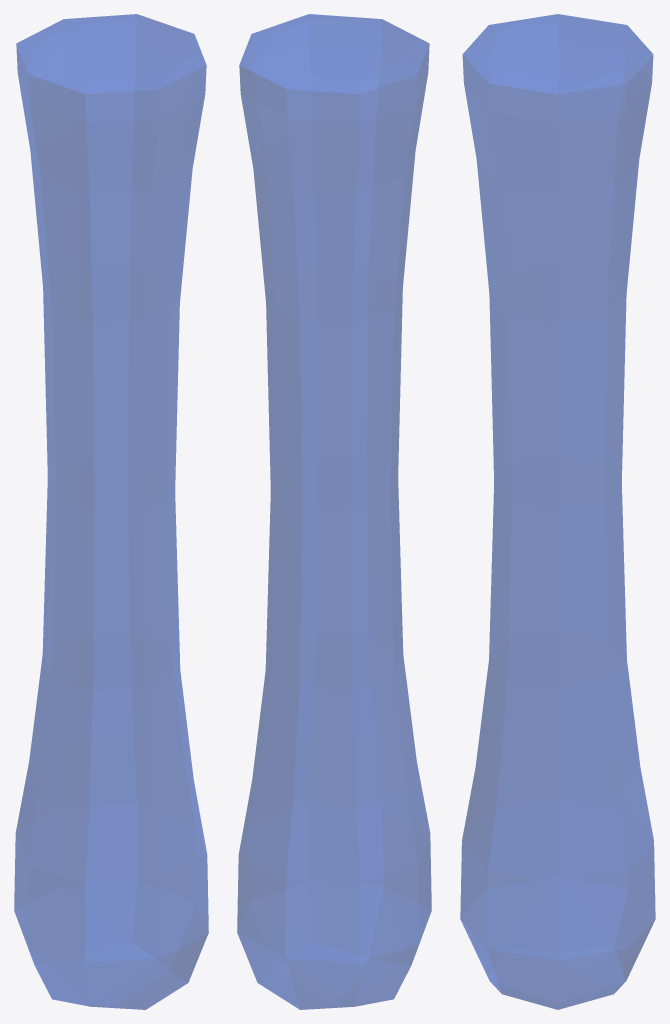
The model's file is Flopa1.obj.
3 renders of one model, left to right at view 1: azimuth 30°, elevation 25°; view 2: azimuth 150°, elevation 25°; view 3: azimuth 270°, elevation 25°, orthographic.
Visible parts, largest first — view 1: Cube.002_Cube.003; view 2: Cube.002_Cube.003; view 3: Cube.002_Cube.003.
Boxes of the visible parts, x1,y1,x2,y2 form: Cube.002_Cube.003: (14, 14, 208, 1009); Cube.002_Cube.003: (237, 14, 431, 1009); Cube.002_Cube.003: (460, 14, 655, 1009).
Bounding box in the file's own units: 0.1795 × 0.9666 × 0.1795.
